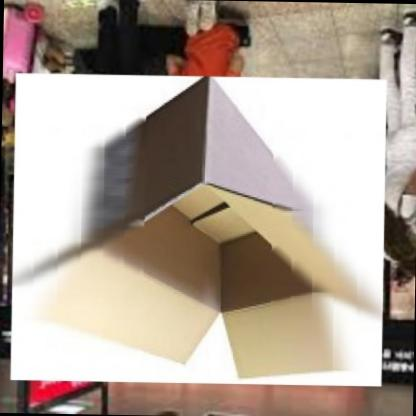box: (4, 68, 393, 390)
